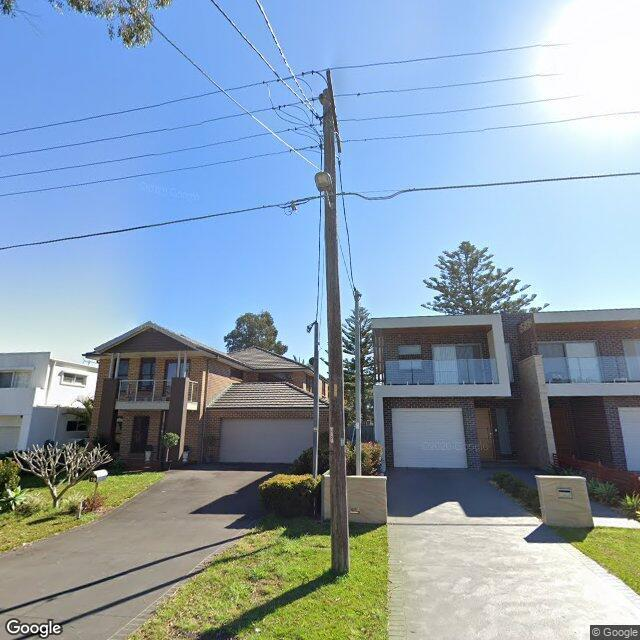crossarm: (326, 68, 342, 154)
streetlight: (314, 171, 333, 211)
timber-pole: (322, 87, 350, 576)
